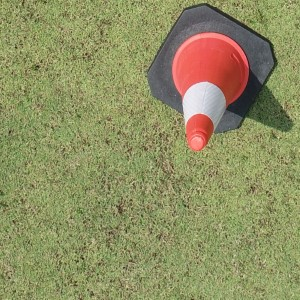traffic cone: (146, 3, 278, 151)
